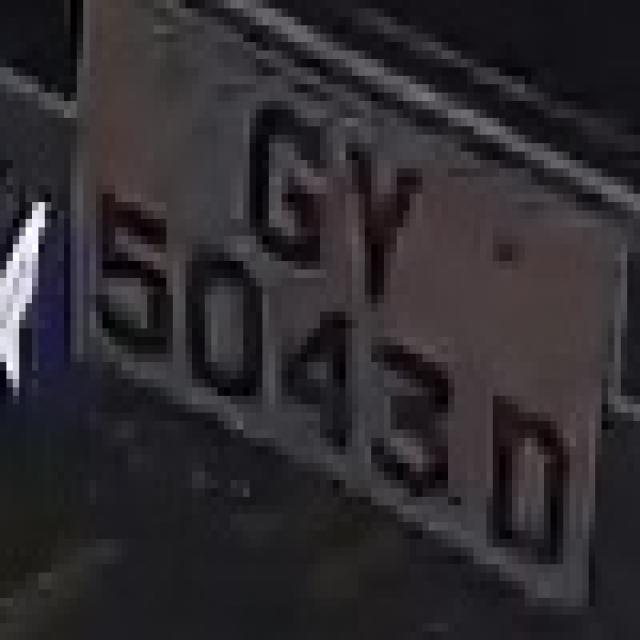0: (160, 186, 282, 447)
3: (371, 295, 461, 547)
4: (262, 236, 372, 488)
5: (77, 144, 179, 388)
D: (467, 379, 570, 581)
G: (230, 59, 333, 295)
Y: (314, 84, 428, 345)
